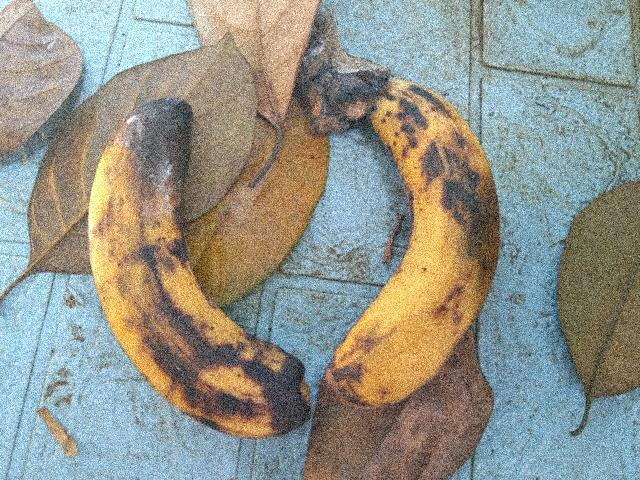overripe: (75, 85, 299, 459), (317, 55, 525, 433)
